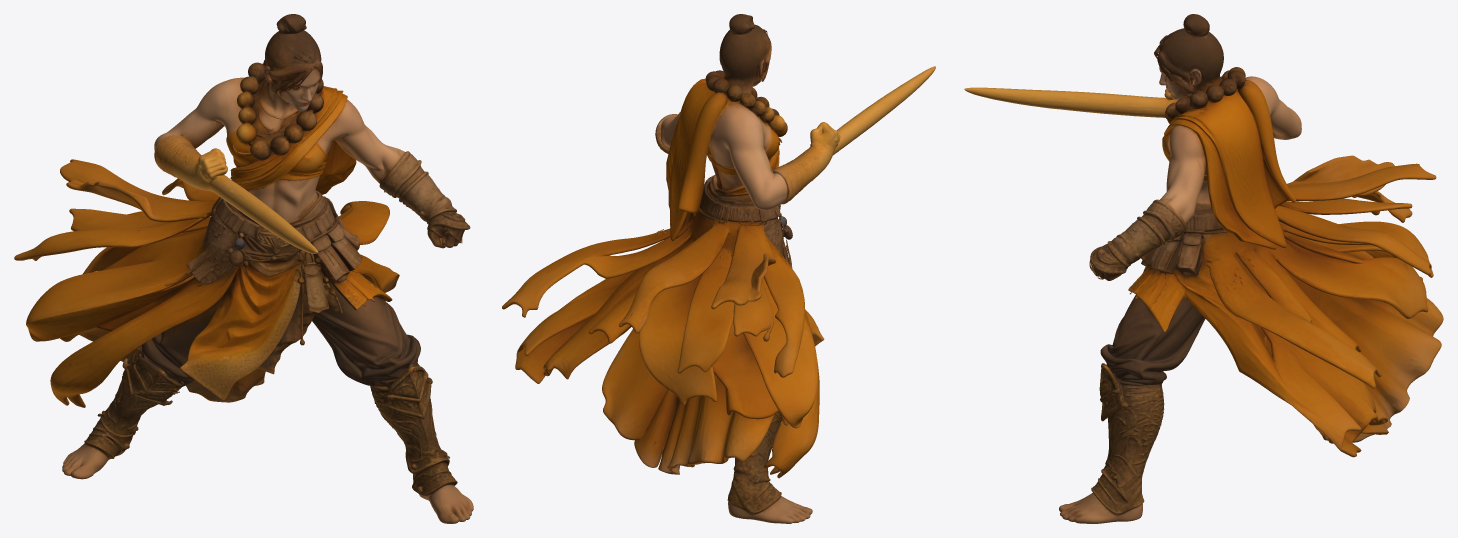
The model's file is monk_full_female_01.glb.
3 renders of one model, left to right at view 1: azimuth 30°, elevation 25°; view 2: azimuth 150°, elevation 25°; view 3: azimuth 270°, elevation 25°, orthographic. The views are drawn at different scales.
Parts seen in each view (by area): view 1: material; view 2: material; view 3: material.
Part boxes in pixels (x1,y1,x2,y2): material: [14, 14, 473, 523]; material: [502, 14, 935, 523]; material: [964, 14, 1443, 523].
Size of the model in its own units: 0.6921 by 0.9108 by 0.8677.
Materials: 1 (1 with a texture image).
